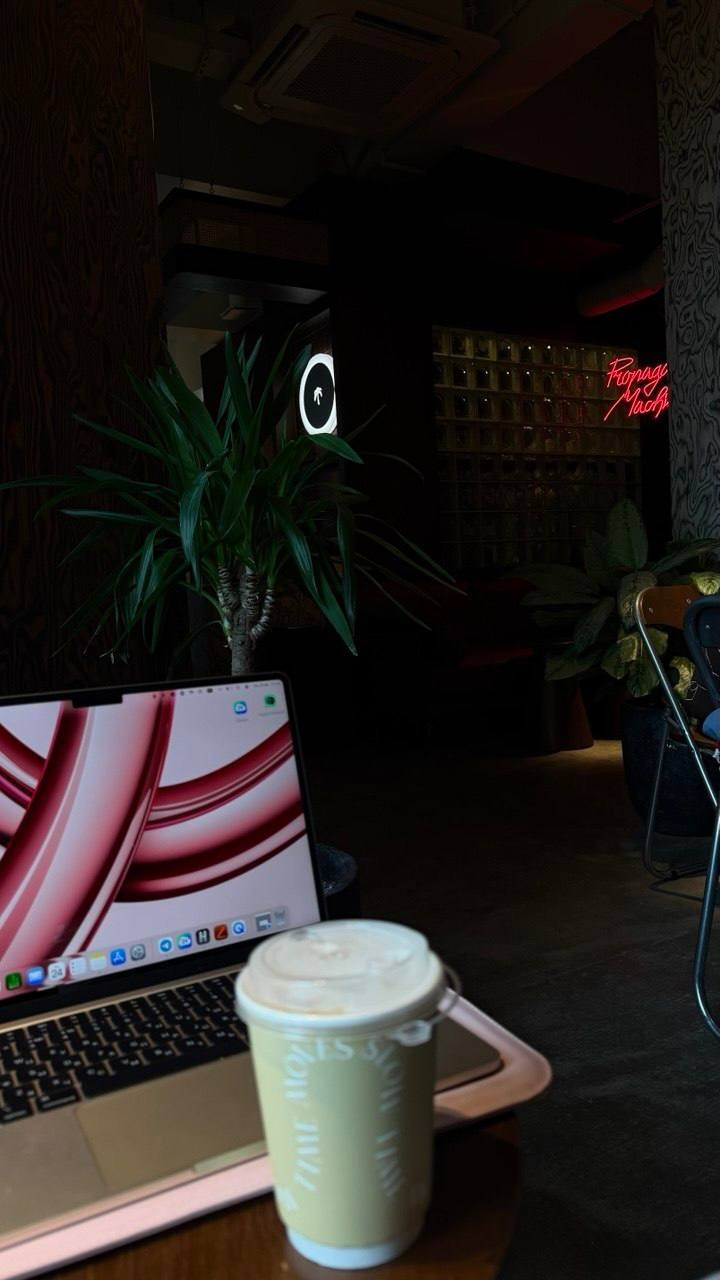laptop: (0, 670, 502, 1276)
